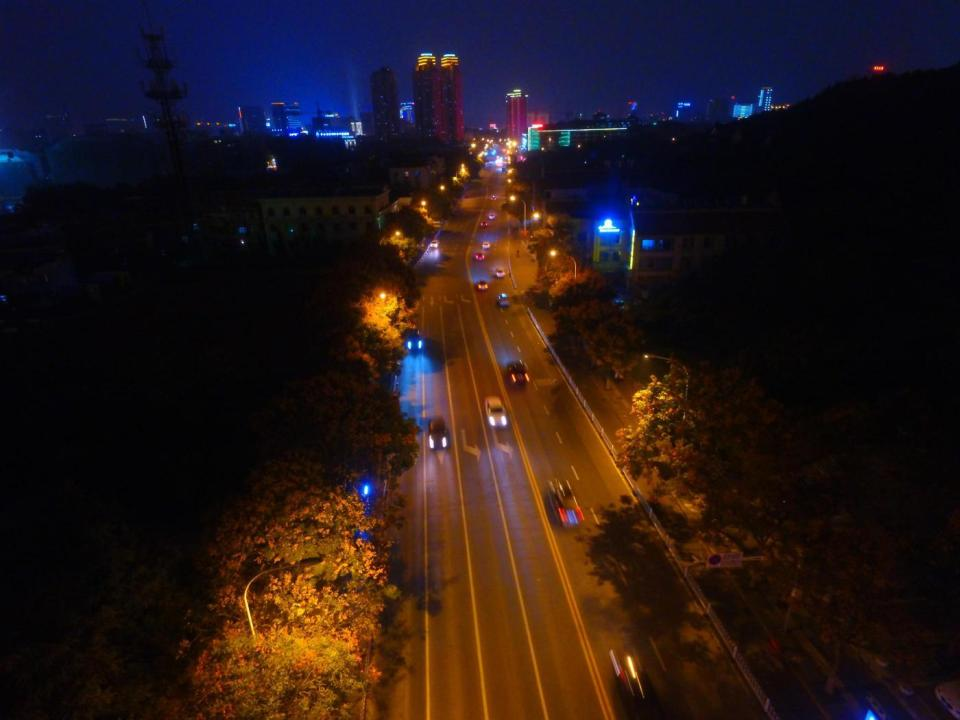car: (612, 660, 660, 720), (548, 477, 585, 528), (427, 415, 449, 448), (508, 360, 532, 387), (488, 397, 506, 431), (407, 328, 423, 354), (498, 294, 511, 307), (477, 279, 488, 293), (494, 266, 505, 278), (475, 251, 485, 263), (481, 241, 490, 250), (480, 220, 488, 228), (488, 212, 496, 219), (490, 195, 498, 200)
